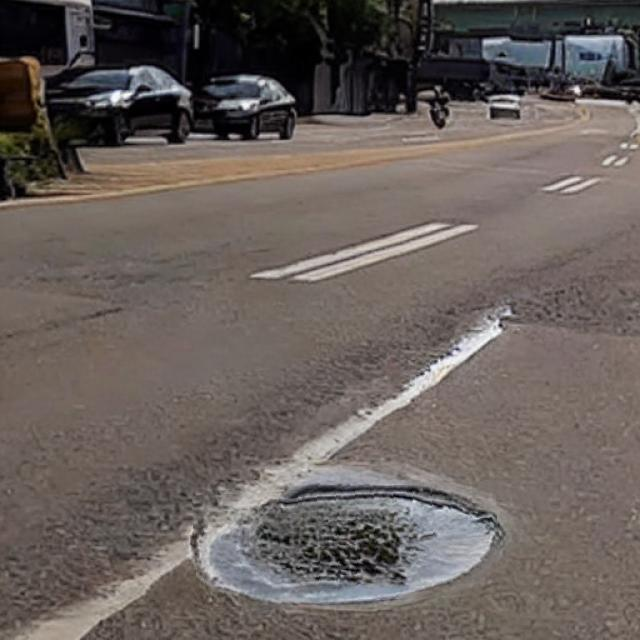puddle: (195, 485, 501, 606)
